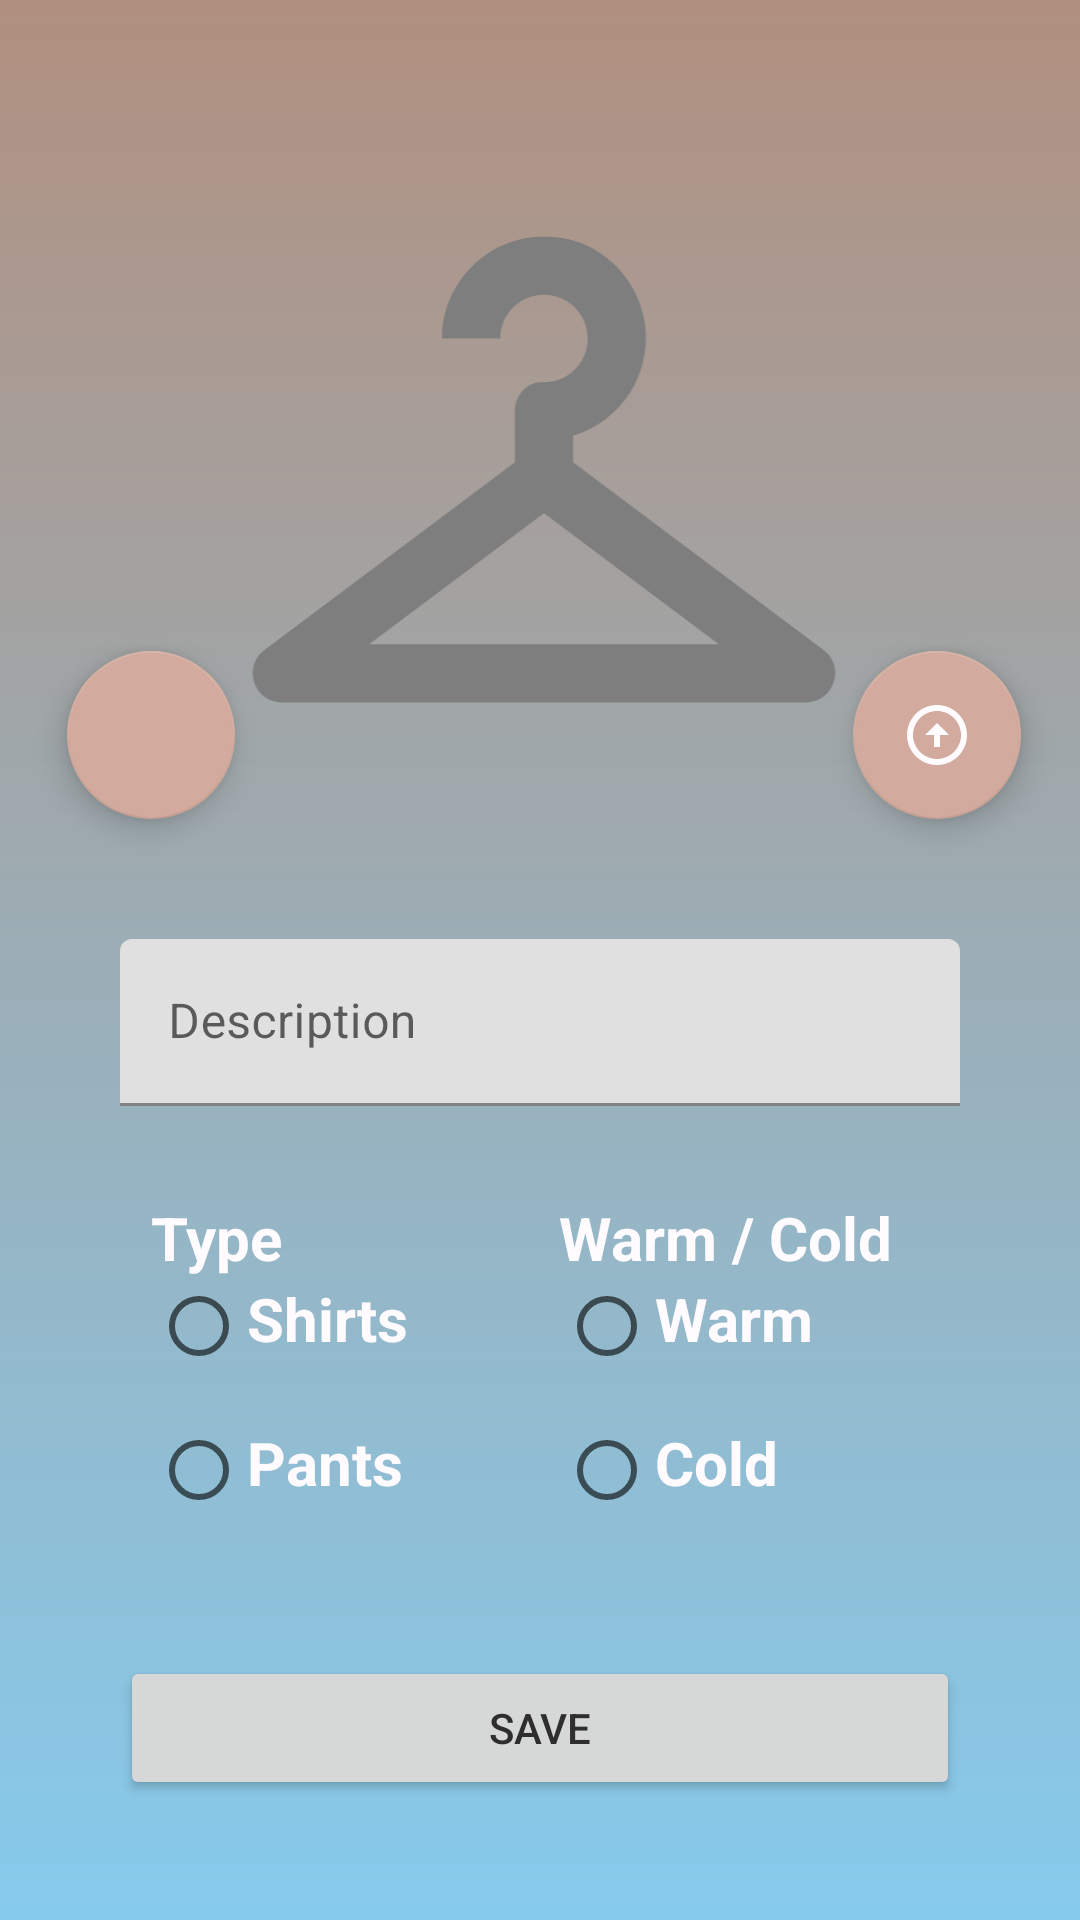

Icons on this 1080w x 1920h Android screen, each with its box as (x1, y1, x2, y2):
Upload From Gallery: (853, 651, 1021, 819)
